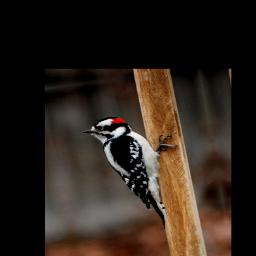Woodpecker: (80, 109, 192, 236)
